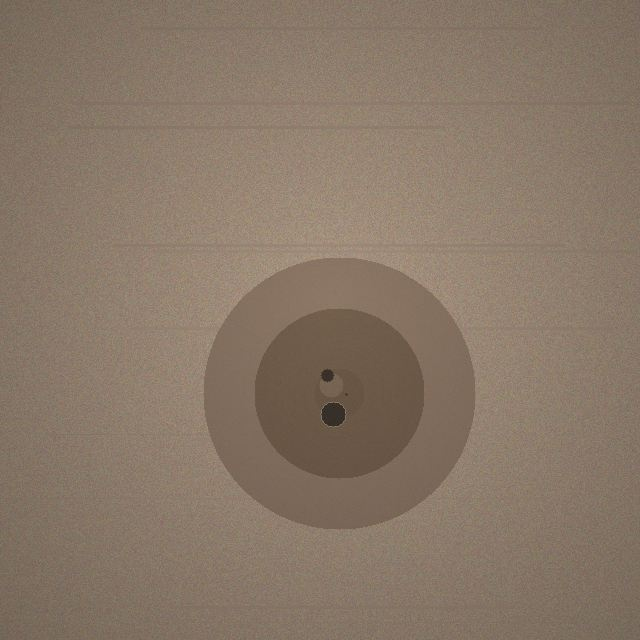shrinkage: (203, 257, 475, 529)
